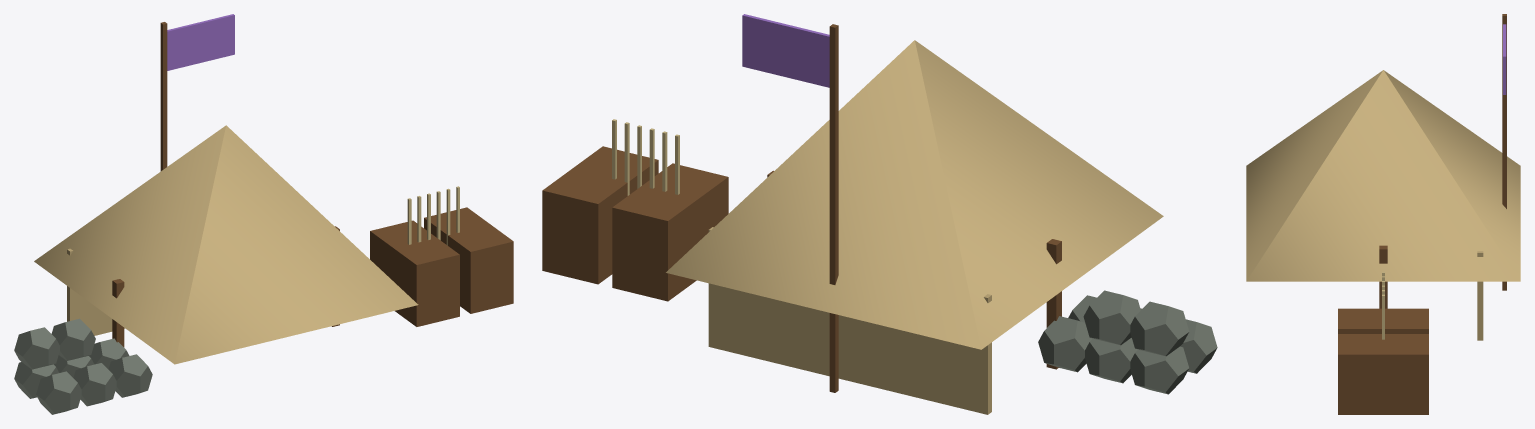
The model's file is camp_2.glb.
3 views of the same model, side by side, from view 1: azimuth 30°, elevation 25°; view 2: azimuth 150°, elevation 25°; view 3: azimuth 270°, elevation 25° (orthographic). The views are drawn at different scales.
Parts seen in each view (by area): view 1: part_0, part_4, part_5, part_21, part_15, part_18, part_16, part_17, part_19, part_3, part_20, part_12 (+2 smaller); view 2: part_0, part_3, part_4, part_5, part_21, part_20, part_18, part_19, part_14, part_12, part_13, part_15 (+1 smaller); view 3: part_0, part_5, part_4, part_20, part_3, part_2, part_21.
Part boxes in pixels (x1,y1,x2,y2): part_0: (34, 125, 418, 364); part_4: (370, 220, 459, 326); part_5: (424, 207, 513, 313); part_21: (167, 14, 234, 70); part_15: (36, 371, 81, 414); part_18: (14, 327, 59, 369); part_16: (73, 363, 116, 406); part_17: (108, 354, 152, 397); part_19: (51, 318, 95, 360); part_3: (67, 248, 124, 335); part_20: (160, 22, 167, 171); part_12: (14, 362, 59, 398); part_0: (666, 40, 1163, 349); part_3: (708, 227, 991, 414); part_4: (612, 163, 728, 301); part_5: (542, 146, 658, 284); part_21: (742, 14, 829, 87); part_20: (829, 24, 838, 392); part_18: (1130, 301, 1189, 356); part_19: (1083, 290, 1140, 345); part_14: (1038, 316, 1092, 372); part_12: (1130, 346, 1189, 394); part_13: (1085, 338, 1137, 383); part_15: (1180, 319, 1217, 373); part_0: (1246, 70, 1520, 281); part_5: (1338, 334, 1428, 414); part_4: (1338, 308, 1428, 333); part_20: (1502, 14, 1506, 290); part_3: (1477, 251, 1483, 340); part_2: (1379, 245, 1387, 308); part_21: (1503, 24, 1506, 94).
Size of the model in its own units: 8.75 by 5 by 4.53.
